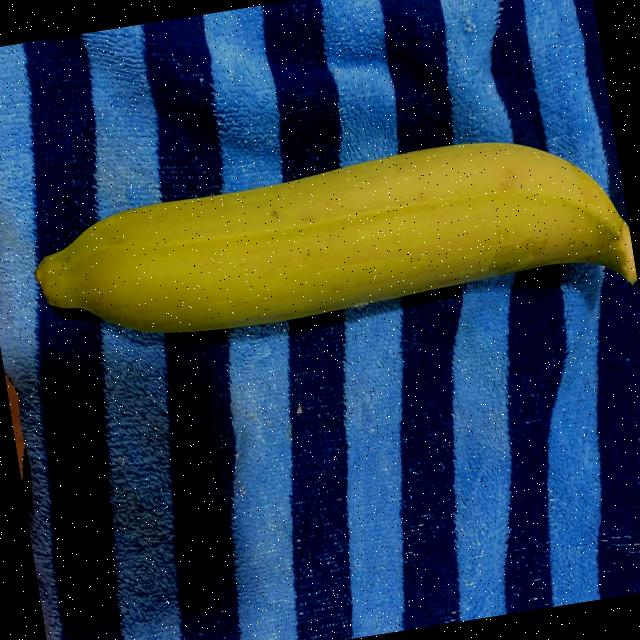Unripe: (10, 82, 640, 451)
